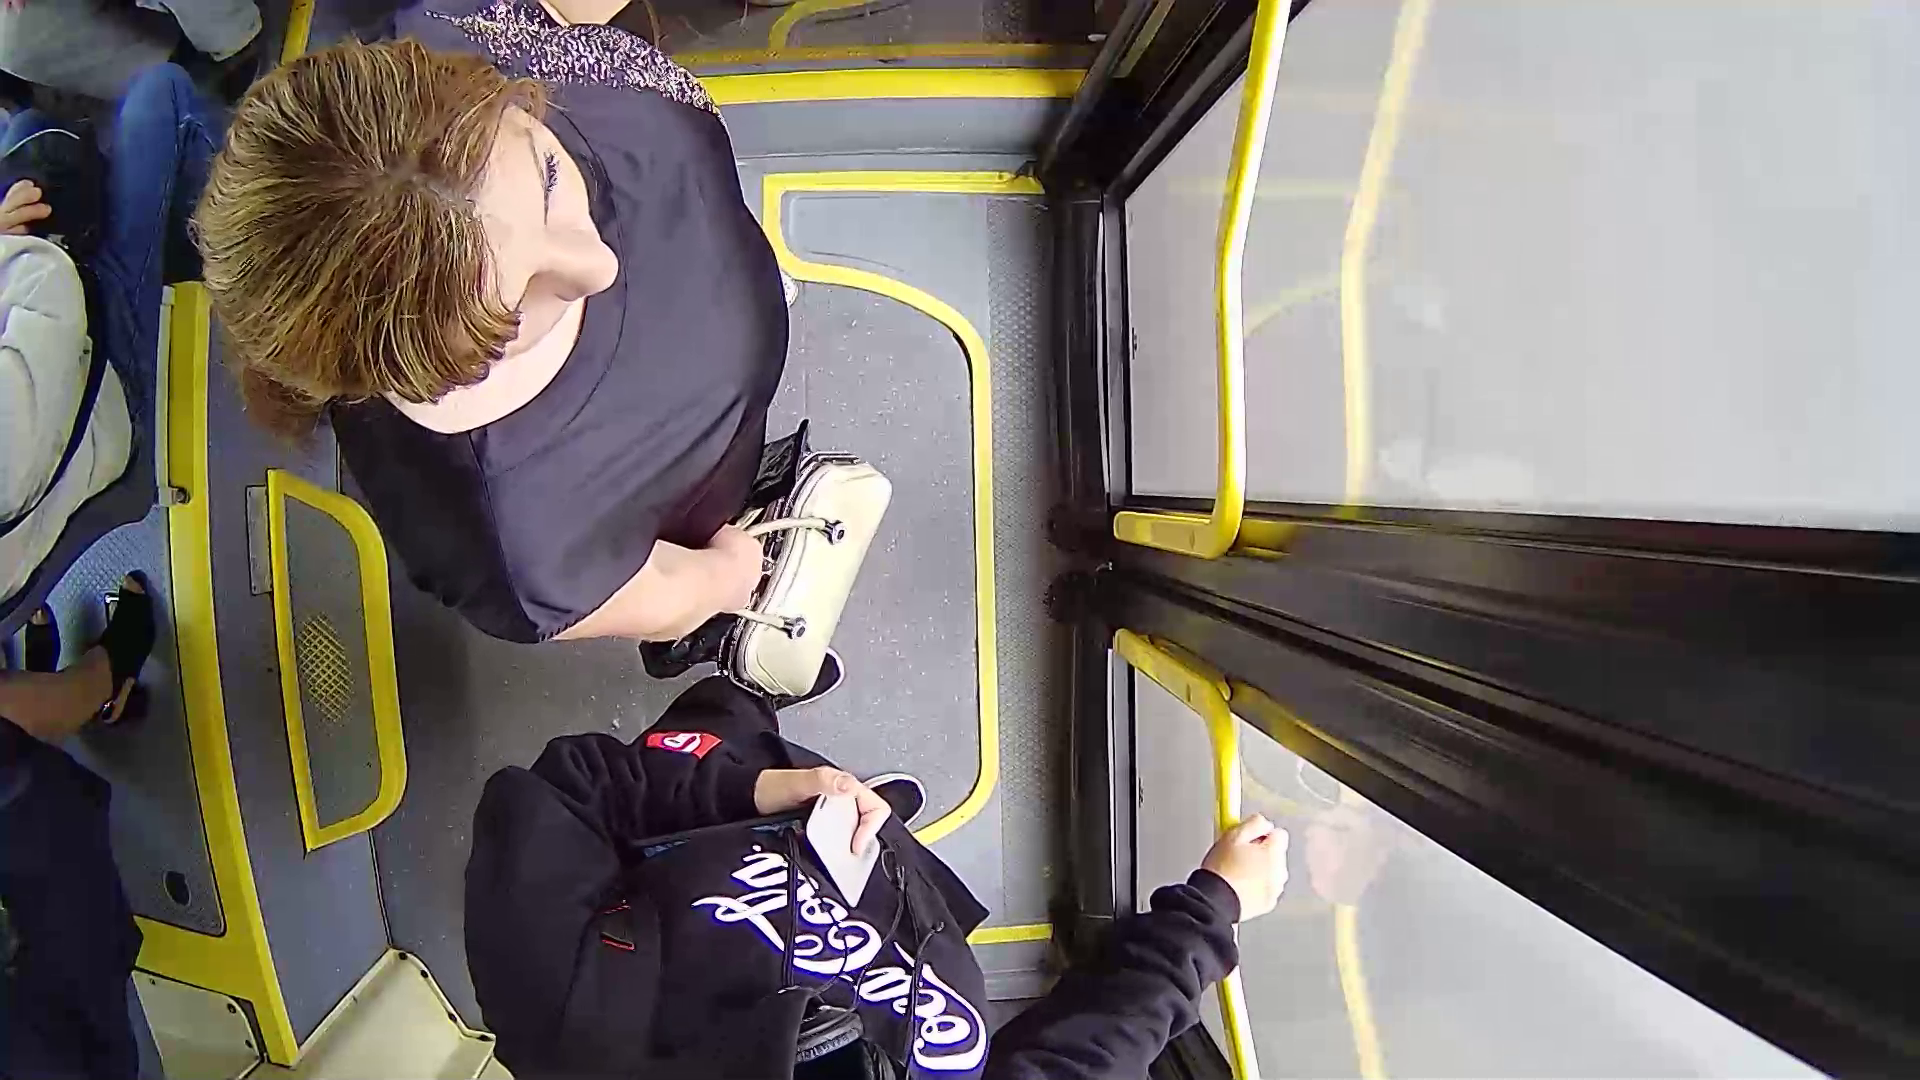person: (192, 33, 1010, 679)
